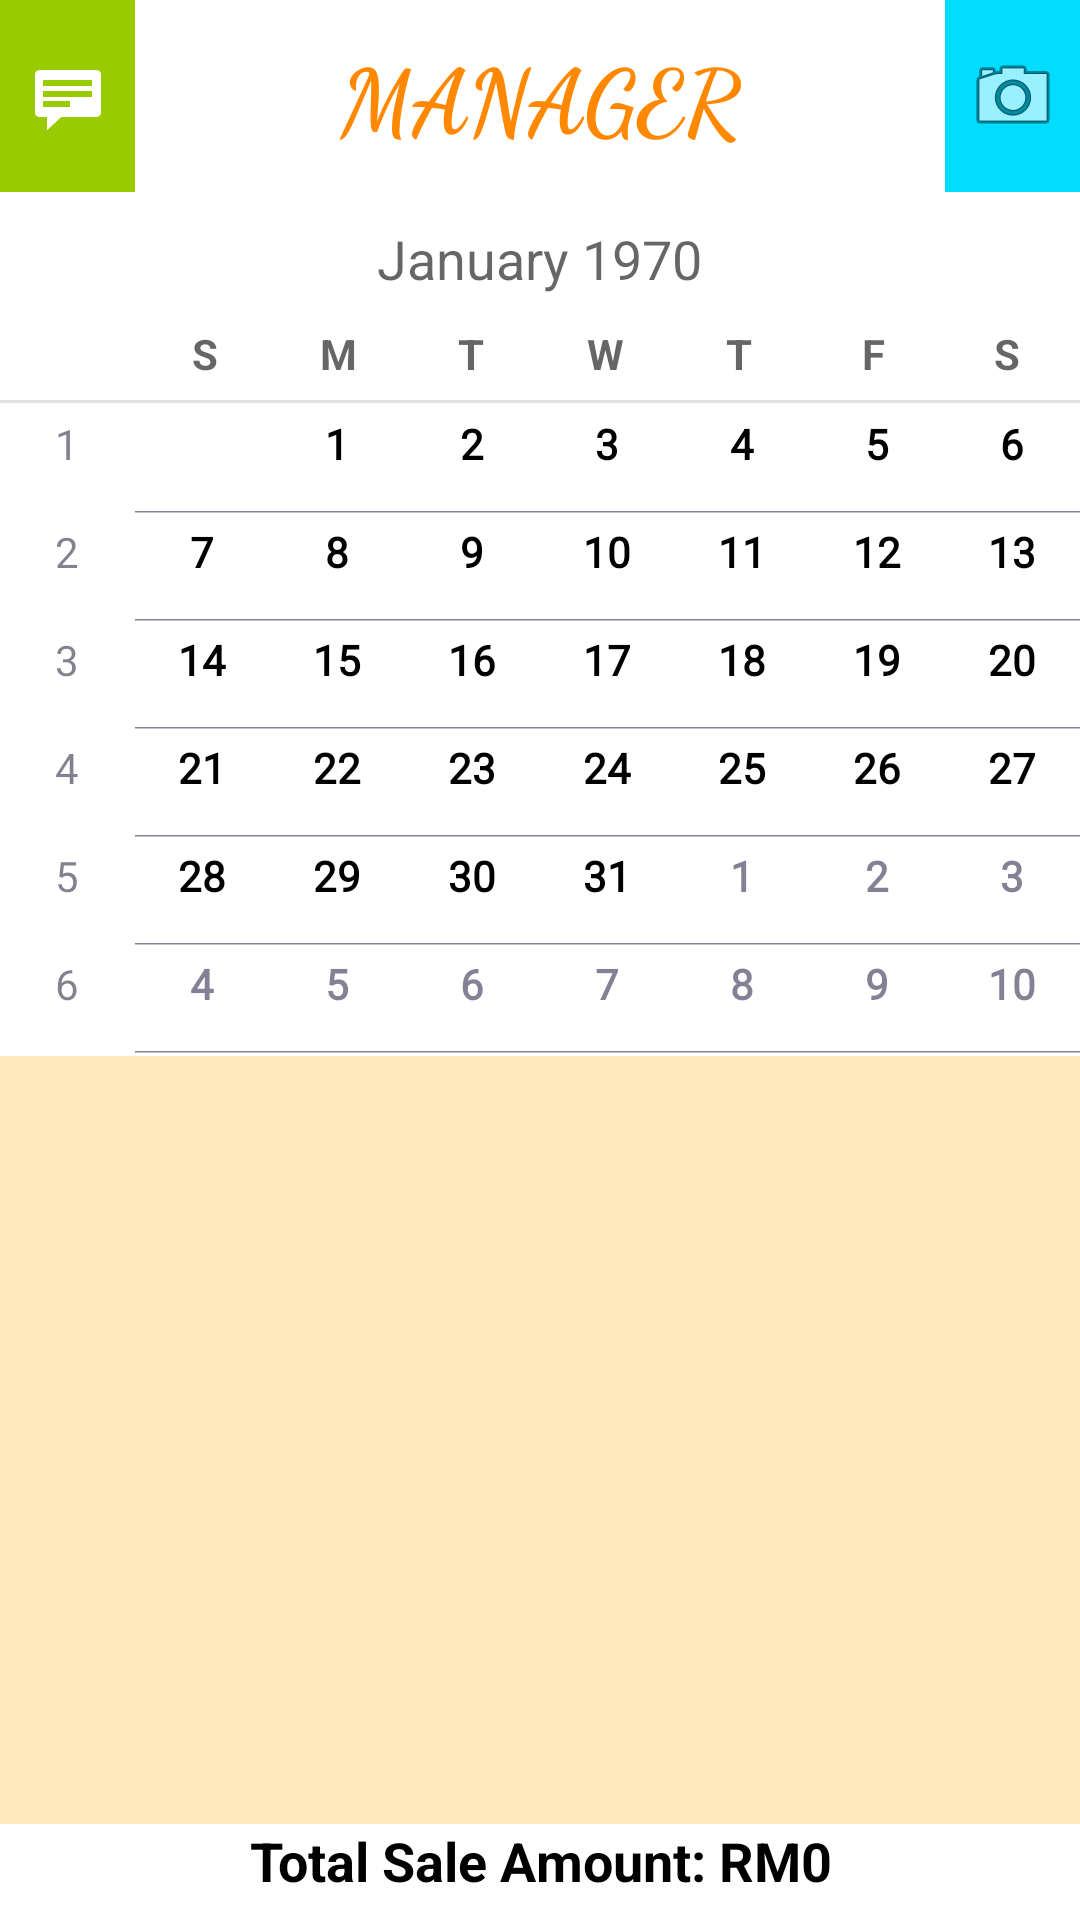

Screen size 1080×1920. Icon name, then its center in pixels as (x,y):
camera: (1013,94)
chat: (68,100)
